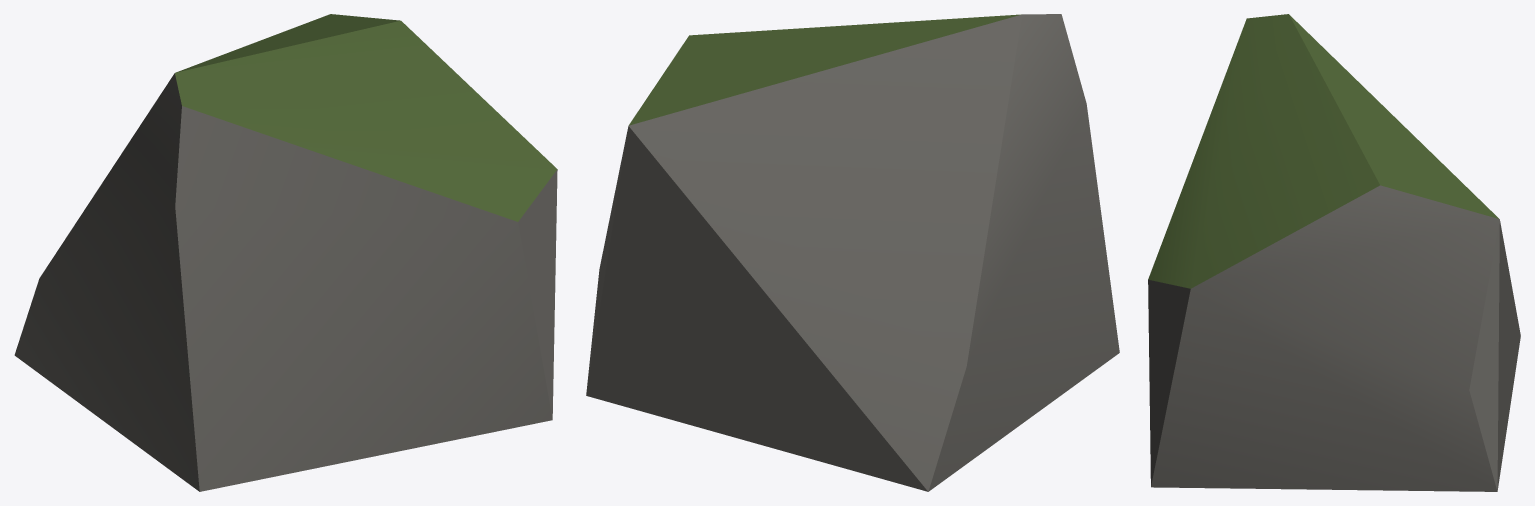
The model's file is RockBoulder.fbx.
The picture shows the model from 3 angles, left to right: view 1: azimuth 30°, elevation 25°; view 2: azimuth 150°, elevation 25°; view 3: azimuth 270°, elevation 25°; orthographic projection. The views are drawn at different scales.
Visible parts, largest first — view 1: RockBoulder; view 2: RockBoulder; view 3: RockBoulder.
Boxes of the visible parts, x1,y1,x2,y2 form: RockBoulder: [14, 14, 557, 491]; RockBoulder: [586, 14, 1119, 491]; RockBoulder: [1148, 14, 1520, 491].
Bounding box in the file's own units: 0.8922 × 0.8441 × 0.8455.
